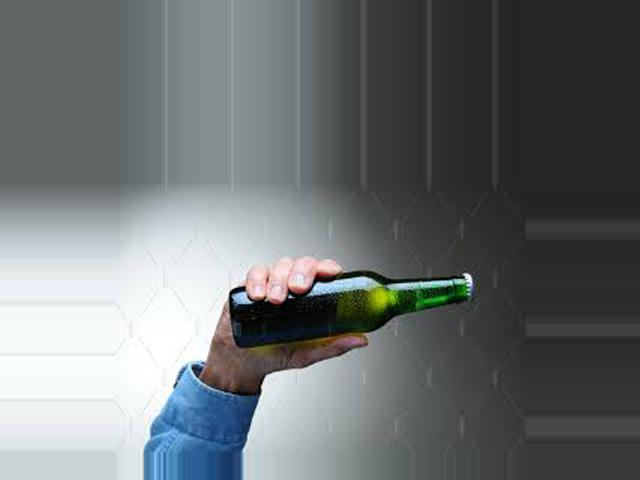beer: (230, 267, 470, 349)
